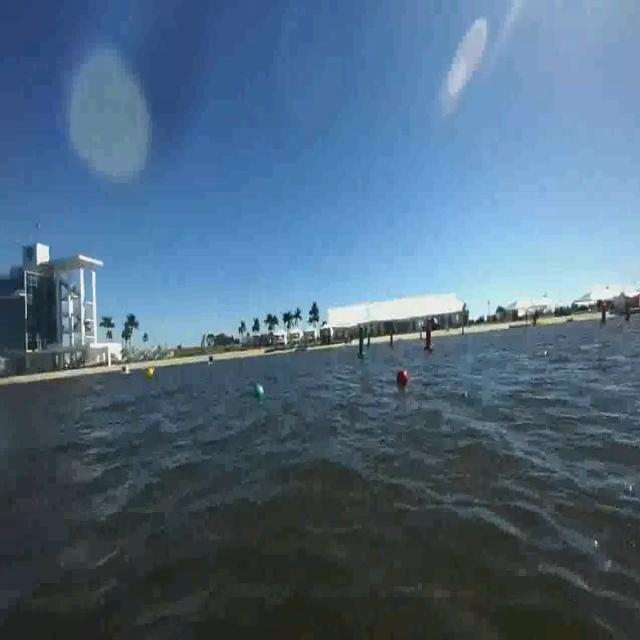green-buoy: (253, 382, 267, 401)
green-column-buoy: (357, 328, 366, 358)
red-buoy: (396, 371, 407, 385)
red-column-buoy: (424, 322, 434, 353)
yellow-buoy: (147, 365, 154, 378)
